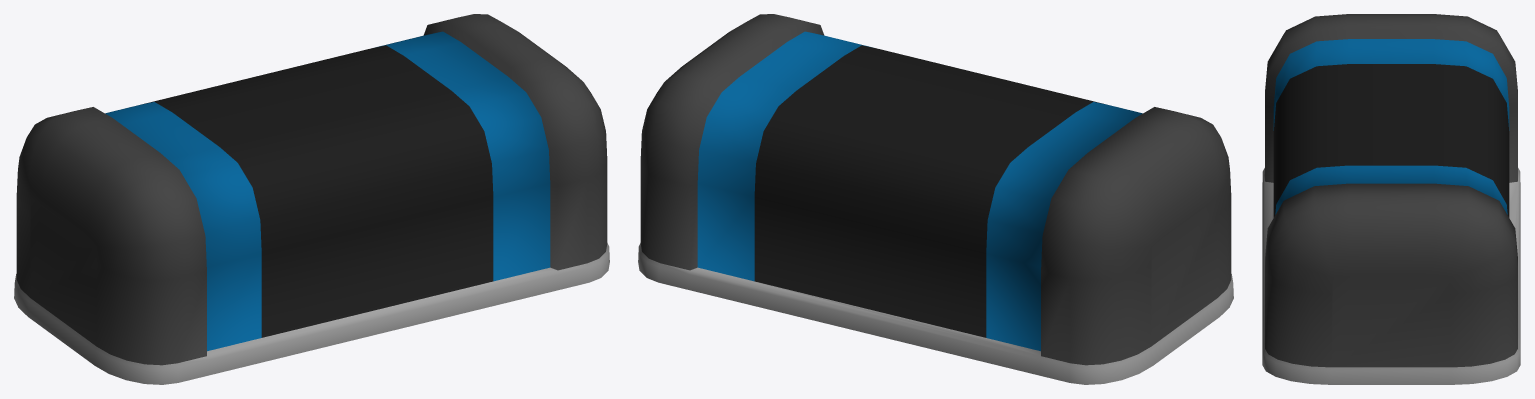
The model's file is yarg_tap.fbx.
3 views of the same model, side by side, from view 1: azimuth 30°, elevation 25°; view 2: azimuth 150°, elevation 25°; view 3: azimuth 270°, elevation 25° (orthographic). The views are drawn at different scales.
Visible parts, largest first — view 1: Cube.003; view 2: Cube.003; view 3: Cube.003.
Part boxes in pixels (box(x1,y1,x2,y2)): Cube.003: box(14, 14, 609, 384); Cube.003: box(638, 14, 1233, 384); Cube.003: box(1262, 14, 1520, 384).
Bounding box in the file's own units: 45.62 × 16.32 × 22.66.
